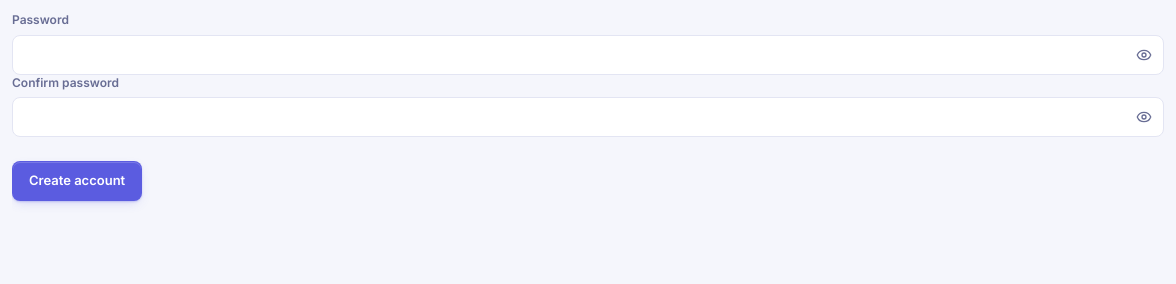
it: NewPasswordFields › shows the rules in rose when submitted empty
Click the button "Create account" at x=77, y=181, box [12,161,142,201]
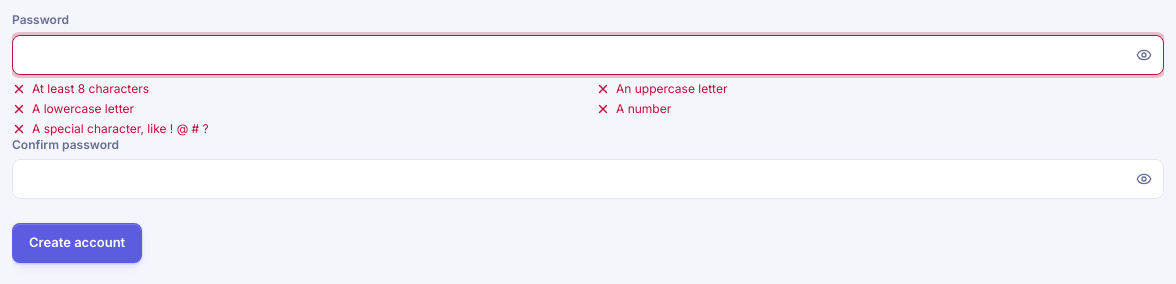
Now the list item "At least 8 characters" is shown, box [12,80,149,103]
